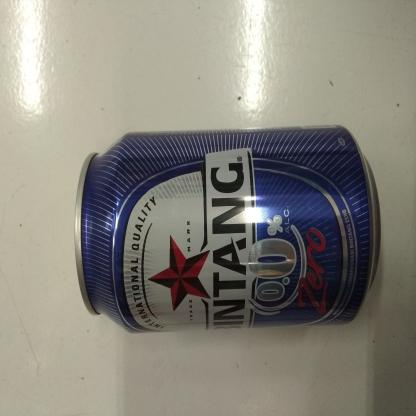can: (73, 124, 381, 335)
